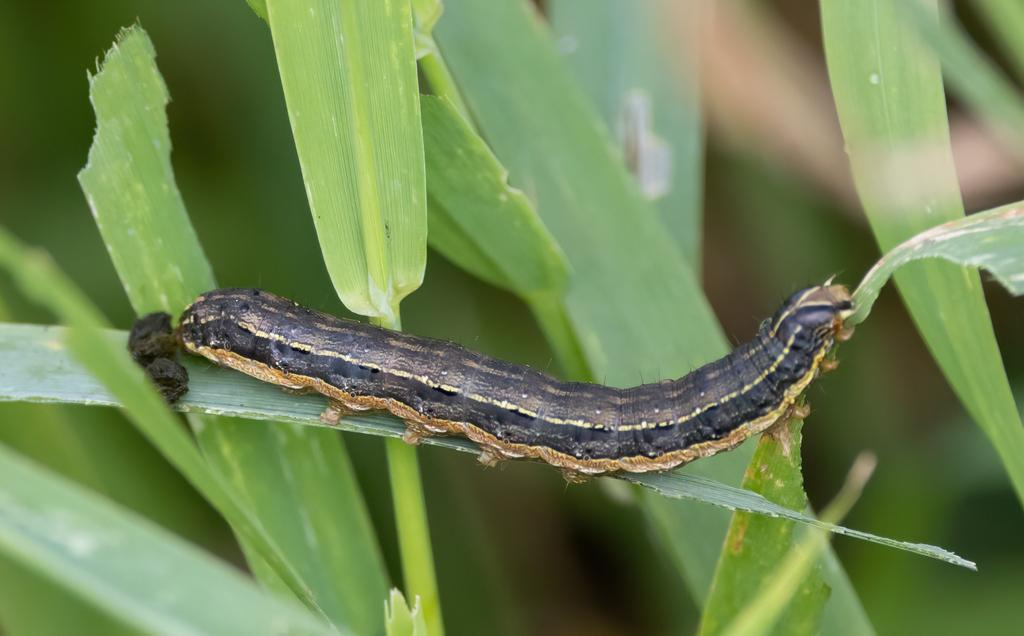caterpillars: (125, 179, 885, 543)
